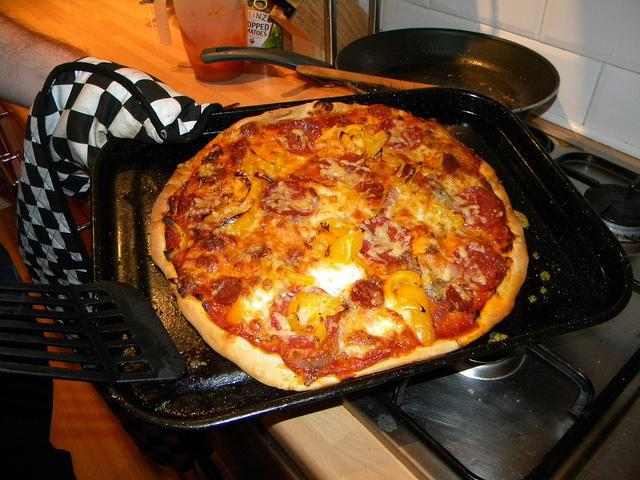hand: (3, 3, 219, 147)
